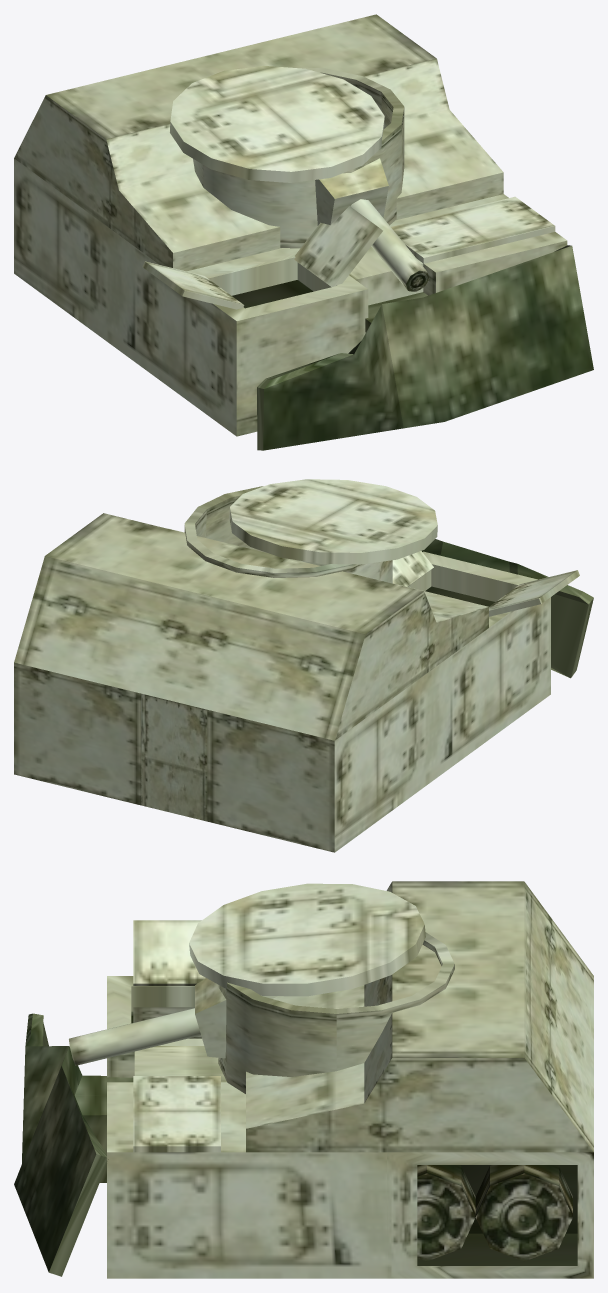
Rendered from SVAROG_destroyed.obj.
3 views of the same model, one above another, from view 1: azimuth 30°, elevation 25°; view 2: azimuth 150°, elevation 25°; view 3: azimuth 270°, elevation 25° (orthographic). The views are drawn at different scales.
Visible parts, largest first — view 1: Cube.010, Cube.013, Cube.015, Cylinder.004, Cylinder.002, Cube.012, Cube.011, Cube.014, Cube.016, Cylinder.003, Cube.017, Cube.009; view 2: Cube.010, Cube.013, Cylinder.004, Cube.011, Cube.009, Cylinder.002, Cube.015, Cube.017, Cube.014; view 3: Cube.010, Cube.011, Cylinder.004, Cube.015, Cylinder.002, Cylinder.005, Cube.012, Cylinder.006, Cube.017, Cylinder.003, Cube.013, Cube.009 (+2 smaller).
Part boxes in pixels (x1,y1,x2,y2): Cube.010: (14, 14, 503, 271); Cube.013: (14, 158, 368, 436); Cube.015: (257, 245, 593, 450); Cylinder.004: (170, 65, 384, 182); Cylinder.002: (193, 67, 404, 248); Cube.012: (391, 196, 555, 263); Cube.011: (389, 194, 567, 295); Cube.014: (294, 206, 382, 286); Cube.016: (315, 158, 388, 225); Cylinder.003: (350, 199, 429, 291); Cube.017: (142, 261, 244, 309); Cube.009: (349, 246, 423, 305); Cube.010: (14, 513, 488, 740); Cube.013: (207, 551, 550, 852); Cylinder.004: (229, 479, 437, 564); Cube.011: (14, 662, 141, 805); Cube.009: (141, 693, 207, 821); Cylinder.002: (184, 486, 392, 583); Cube.015: (422, 539, 593, 678); Cube.017: (489, 570, 579, 616); Cube.014: (392, 551, 433, 586); Cube.010: (246, 881, 593, 1152); Cube.011: (107, 1082, 593, 1278); Cylinder.004: (189, 883, 425, 996); Cube.015: (14, 1013, 133, 1276); Cylinder.002: (218, 932, 454, 1093); Cylinder.005: (475, 1165, 572, 1261); Cube.012: (133, 1076, 220, 1152); Cylinder.006: (417, 1165, 475, 1261); Cube.017: (133, 920, 205, 985); Cylinder.003: (69, 1008, 200, 1065); Cube.013: (107, 976, 204, 1077); Cube.009: (134, 1046, 226, 1082).
Size of the model in its own units: 6.77 by 3.94 by 8.34.
Materials: 1 (1 with a texture image).
